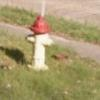a fire hydrant: (27, 16, 53, 71)
